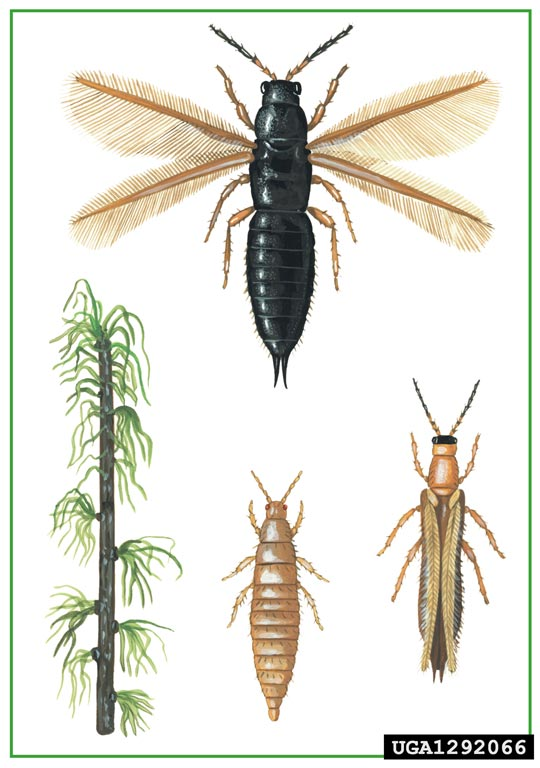Thrips: (77, 46, 469, 376), (383, 391, 509, 684), (223, 443, 339, 727)
